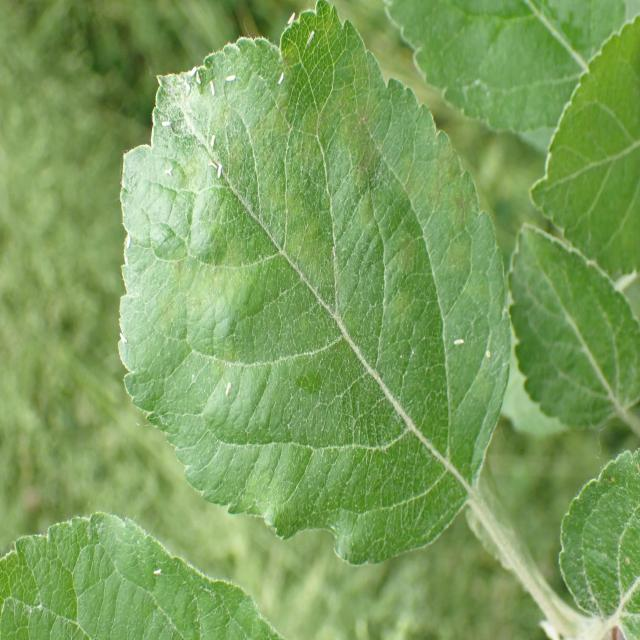scab: (146, 35, 525, 487)
